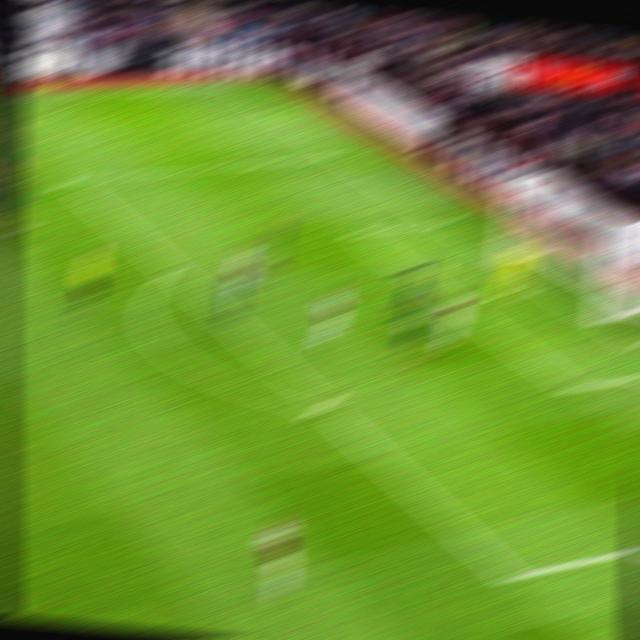bigarea_bottom_inner: (485, 552, 533, 600)
bigarea_top_inner: (53, 170, 85, 190)
bigarea_top_outter: (326, 147, 352, 161)
bottom_arc_area_intersection: (303, 388, 341, 422)
corner: (217, 79, 245, 89)
smallarea_bottom_inner: (558, 372, 591, 401)
smallarea_top_inner: (342, 225, 370, 242)
smallarea_top_outter: (429, 212, 459, 232)
top_arc_area_intersection: (158, 260, 185, 280)
